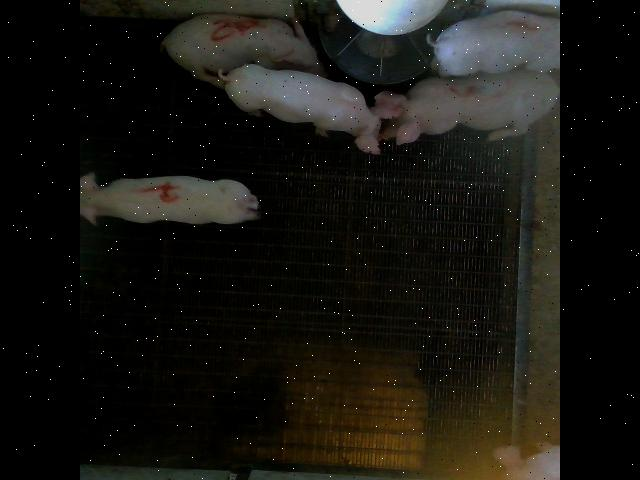pig-1: (426, 9, 559, 75)
pig-3: (371, 69, 559, 144)
pig-4: (80, 172, 259, 224)
pig-5: (160, 14, 326, 88)
